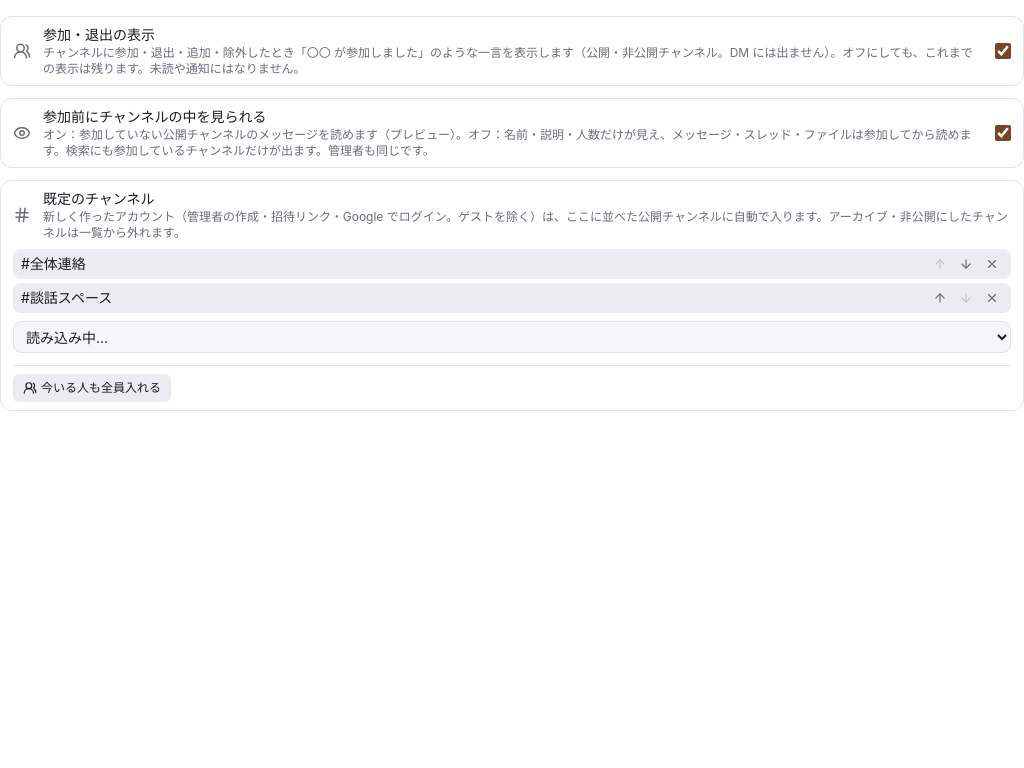
it: 既定のチャンネル › asks with the count before adding everyone, then reports
Click the button "今いる人も全員入れる" at (92, 388), box x1=13 y1=374 x2=171 y2=402
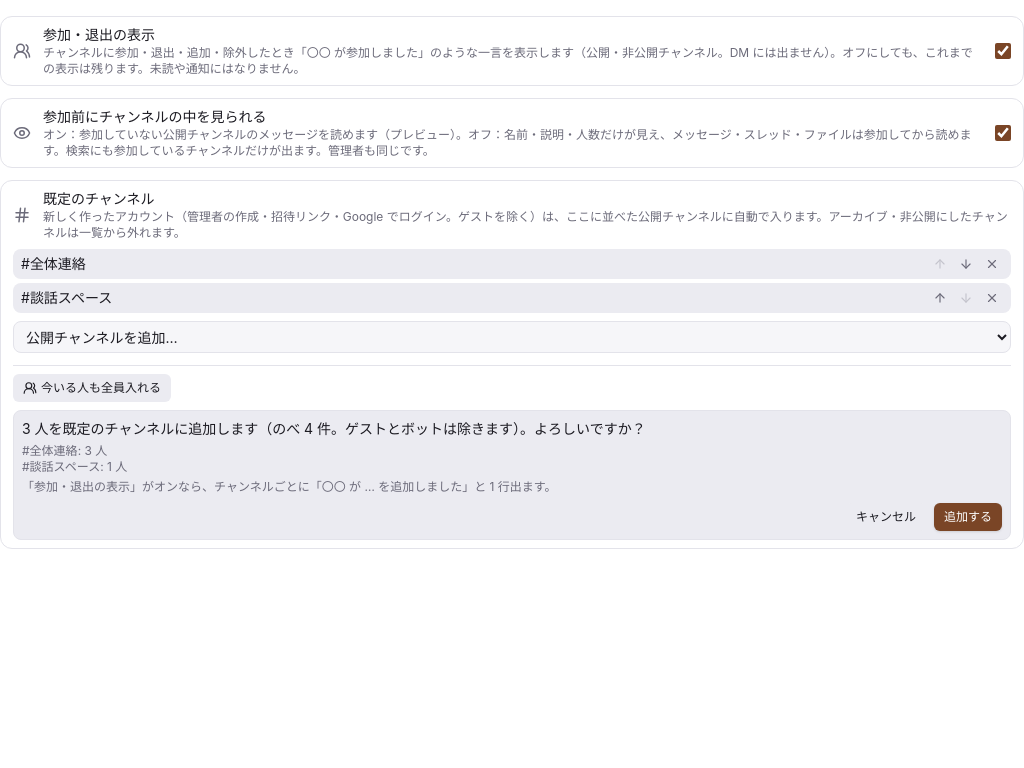
Now the text "3 人を既定のチャンネルに追加します（のべ 4 件。ゲストとボットは除きます）。よろしいですか？" is shown, box x1=22 y1=420 x2=646 y2=437
Now the list item "#談話スペース: 1 人" is shown, box x1=22 y1=459 x2=127 y2=474
Click the button "追加する" at (968, 517), box x1=934 y1=503 x2=1002 y2=531
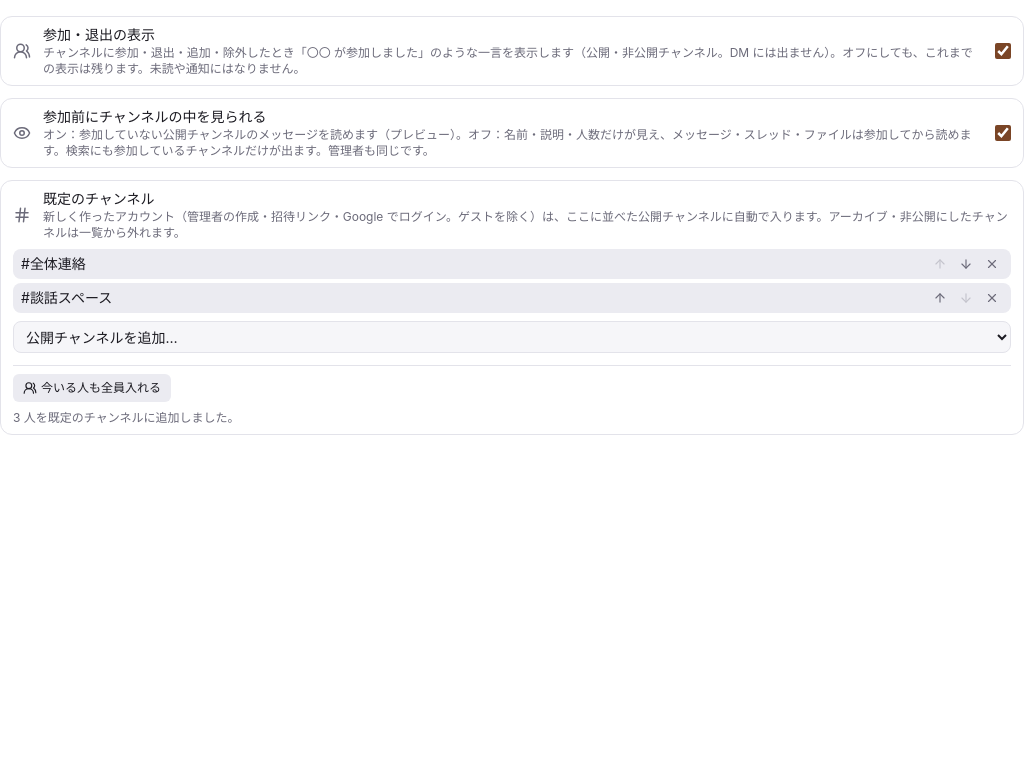
Now the message reads "3 人を既定のチャンネルに追加しました。", box x1=13 y1=410 x2=239 y2=425
Now the dialog is gone
